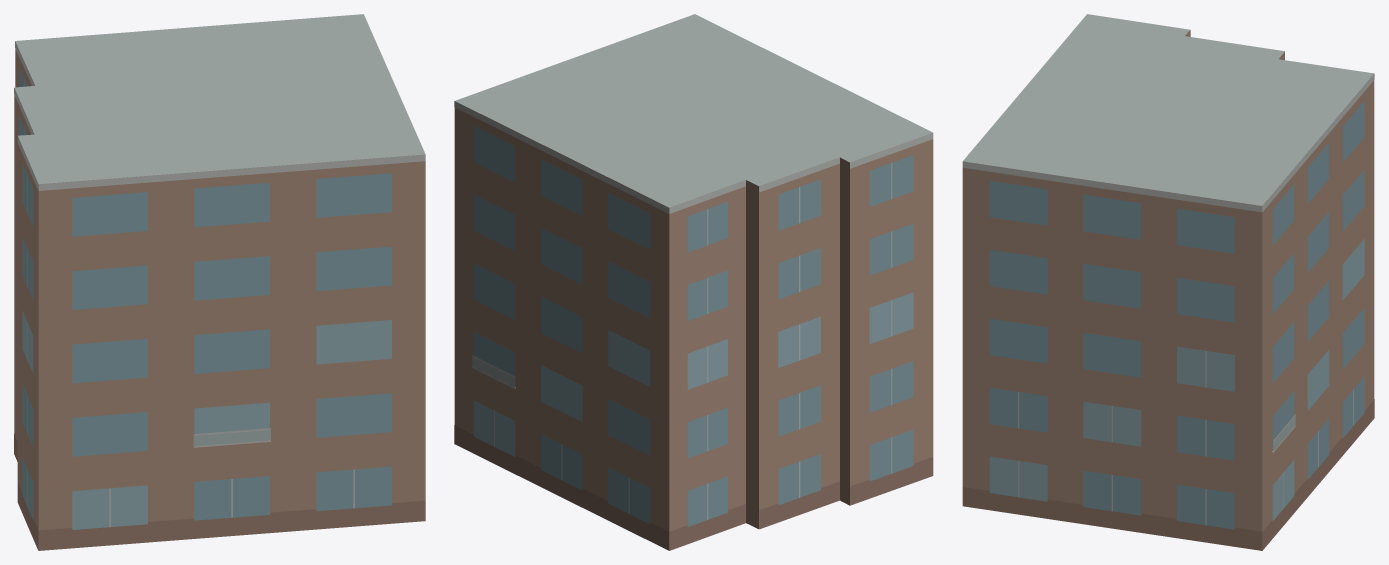
The model's file is survey-upis-32847583.glb.
The picture shows the model from 3 angles, left to right: view 1: azimuth 30°, elevation 25°; view 2: azimuth 150°, elevation 25°; view 3: azimuth 270°, elevation 25°; orthographic projection. The views are drawn at different scales.
Visible parts, largest first — view 1: survey-upis-32847583.tmp; view 2: survey-upis-32847583.tmp; view 3: survey-upis-32847583.tmp.
Part boxes in pixels (<box>): survey-upis-32847583.tmp: <box>14,14,425,550</box>; survey-upis-32847583.tmp: <box>454,14,933,550</box>; survey-upis-32847583.tmp: <box>962,14,1374,550</box>.
Size of the model in its own units: 15.83 by 13.25 by 14.35.
